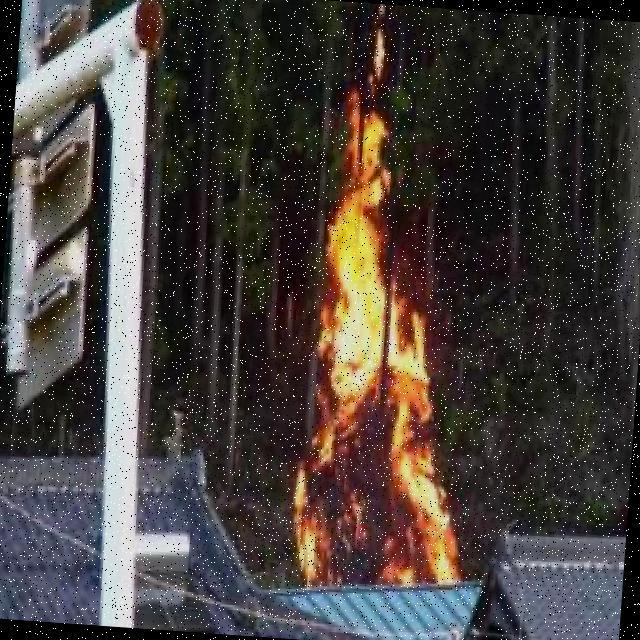Fire: (289, 108, 489, 593)
